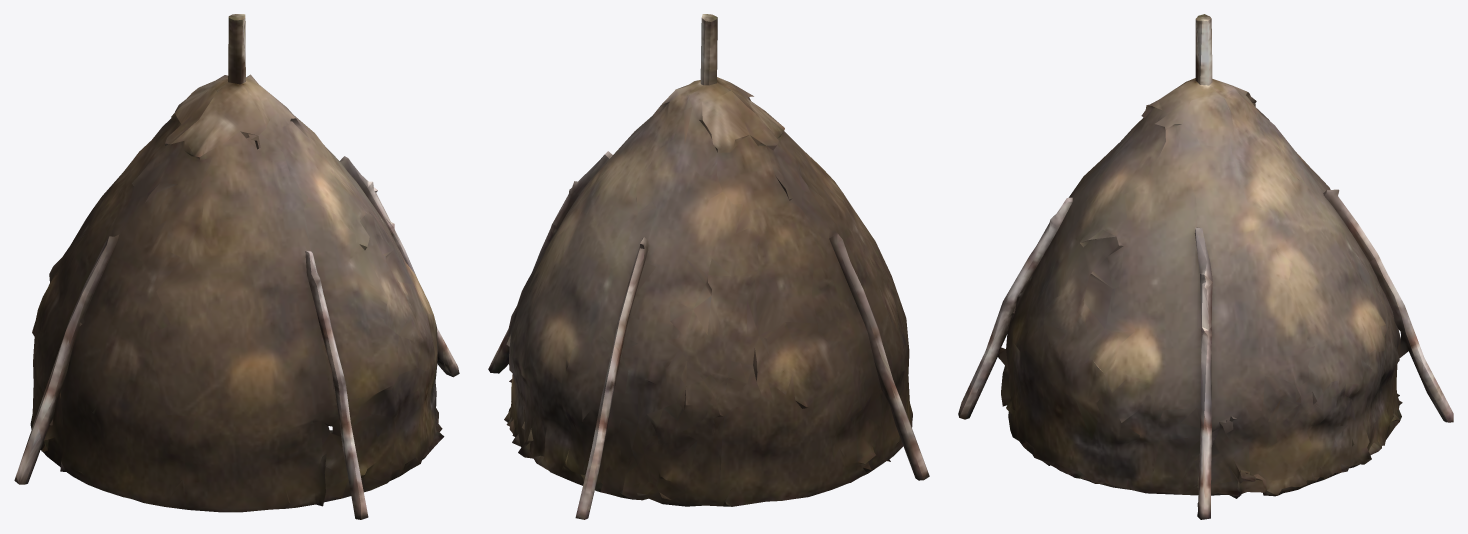
The model's file is prop-haystack.glb.
3 views of the same model, side by side, from view 1: azimuth 30°, elevation 25°; view 2: azimuth 150°, elevation 25°; view 3: azimuth 270°, elevation 25° (orthographic). The views are drawn at different scales.
Parts seen in each view (by area): view 1: prop-haystack; view 2: prop-haystack; view 3: prop-haystack.
Boxes of the visible parts, box(x1,y1,x2,y2) form: prop-haystack: box(14, 14, 459, 519); prop-haystack: box(488, 14, 929, 519); prop-haystack: box(958, 14, 1453, 519).
Bounding box in the file's own units: 3.55 × 3.19 × 3.55.
1 material, 1 textured.
